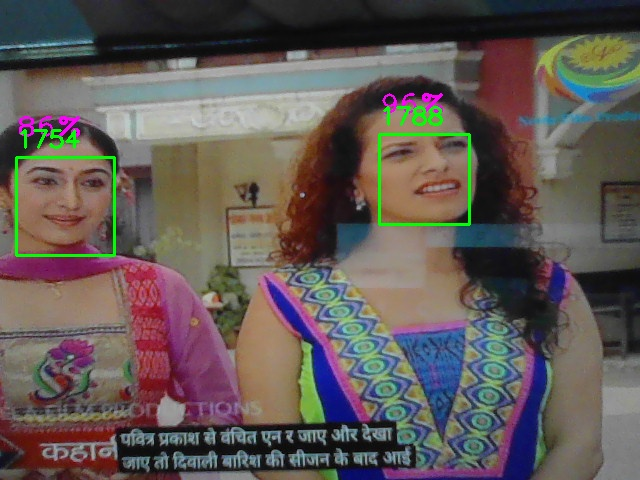fake: (16, 157, 115, 256), (379, 134, 470, 225)
